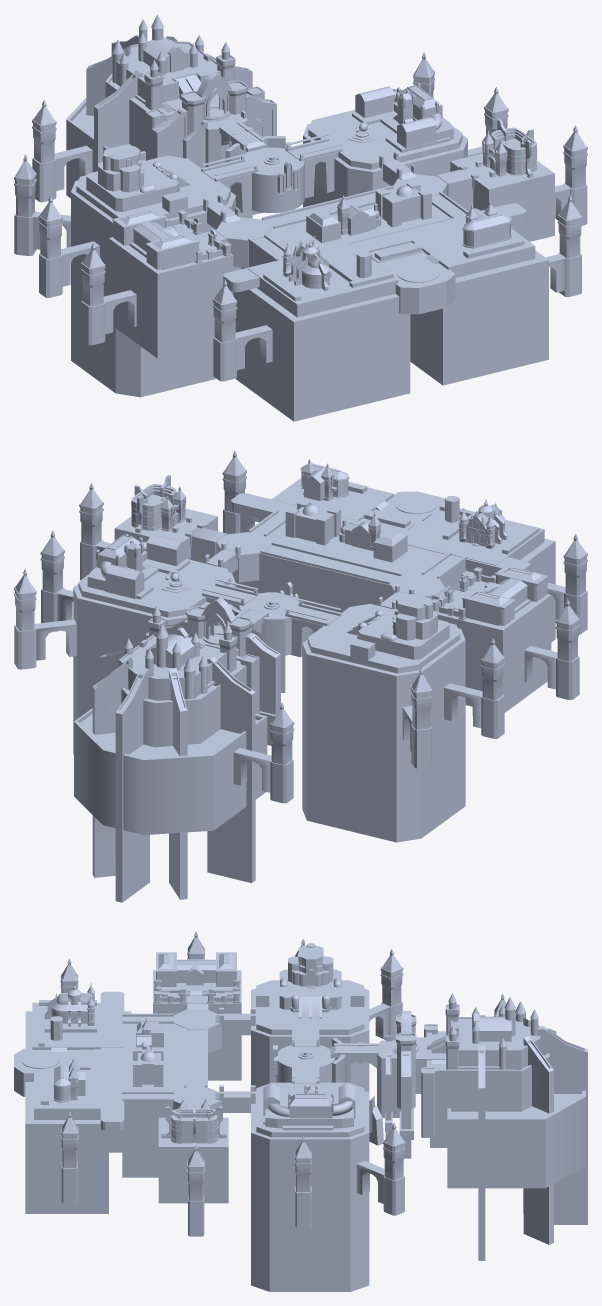
The model's file is building.FBX.
3 renders of one model, top to bottom at view 1: azimuth 30°, elevation 25°; view 2: azimuth 150°, elevation 25°; view 3: azimuth 270°, elevation 25°, orthographic. The views are drawn at different scales.
Parts seen in each view (by area): view 1: building, 对象039, 对象040, 对象035, 对象033, Box005, 对象032, 对象034, Cylinder030, 对象038, Box045, Box171 (+52 smaller); view 2: building, Box172, 对象032, 对象035, Box171, Box180, Box018, 对象033, Box179, Box017, Box178, Box260 (+42 smaller); view 3: building, Box172, 对象032, 对象040, Box018, Box180, Box005, Box179, 对象033, 对象035, Box017, Box045 (+39 smaller).
Part boxes in pixels (x1=…): building: x1=71, y1=110, x2=467, y2=397; 对象039: x1=235, y1=288, x2=410, y2=421; 对象040: x1=410, y1=250, x2=548, y2=385; 对象035: x1=108, y1=223, x2=233, y2=358; 对象033: x1=247, y1=243, x2=398, y2=317; Box005: x1=450, y1=153, x2=554, y2=241; 对象032: x1=233, y1=189, x2=466, y2=298; 对象034: x1=411, y1=228, x2=535, y2=277; Cylinder030: x1=240, y1=147, x2=304, y2=212; 对象038: x1=371, y1=252, x2=455, y2=314; Box045: x1=223, y1=203, x2=526, y2=292; Box171: x1=94, y1=70, x2=142, y2=171; building: x1=73, y1=559, x2=465, y2=842; Box172: x1=74, y1=708, x2=267, y2=834; 对象032: x1=235, y1=512, x2=466, y2=612; 对象035: x1=438, y1=580, x2=551, y2=712; Box171: x1=207, y1=656, x2=255, y2=883; Box180: x1=115, y1=667, x2=149, y2=902; Box018: x1=121, y1=660, x2=246, y2=747; 对象033: x1=404, y1=509, x2=544, y2=576; Box179: x1=92, y1=657, x2=132, y2=877; Box017: x1=118, y1=634, x2=226, y2=700; Box178: x1=169, y1=668, x2=187, y2=899; Box260: x1=269, y1=702, x2=294, y2=803; building: x1=251, y1=980, x2=369, y2=1291; Box172: x1=447, y1=1090, x2=585, y2=1188; 对象032: x1=122, y1=1016, x2=207, y2=1177; 对象040: x1=25, y1=1082, x2=108, y2=1213; Box018: x1=430, y1=1031, x2=549, y2=1147; Box180: x1=537, y1=1026, x2=587, y2=1224; Box005: x1=158, y1=1117, x2=228, y2=1203; Box179: x1=523, y1=1036, x2=553, y2=1244; 对象033: x1=32, y1=1002, x2=122, y2=1049; 对象035: x1=153, y1=970, x2=241, y2=1080; Box017: x1=451, y1=1017, x2=540, y2=1070; Box045: x1=100, y1=991, x2=124, y2=1130.
Size of the model in its own units: 15341 by 7463 by 16876.
